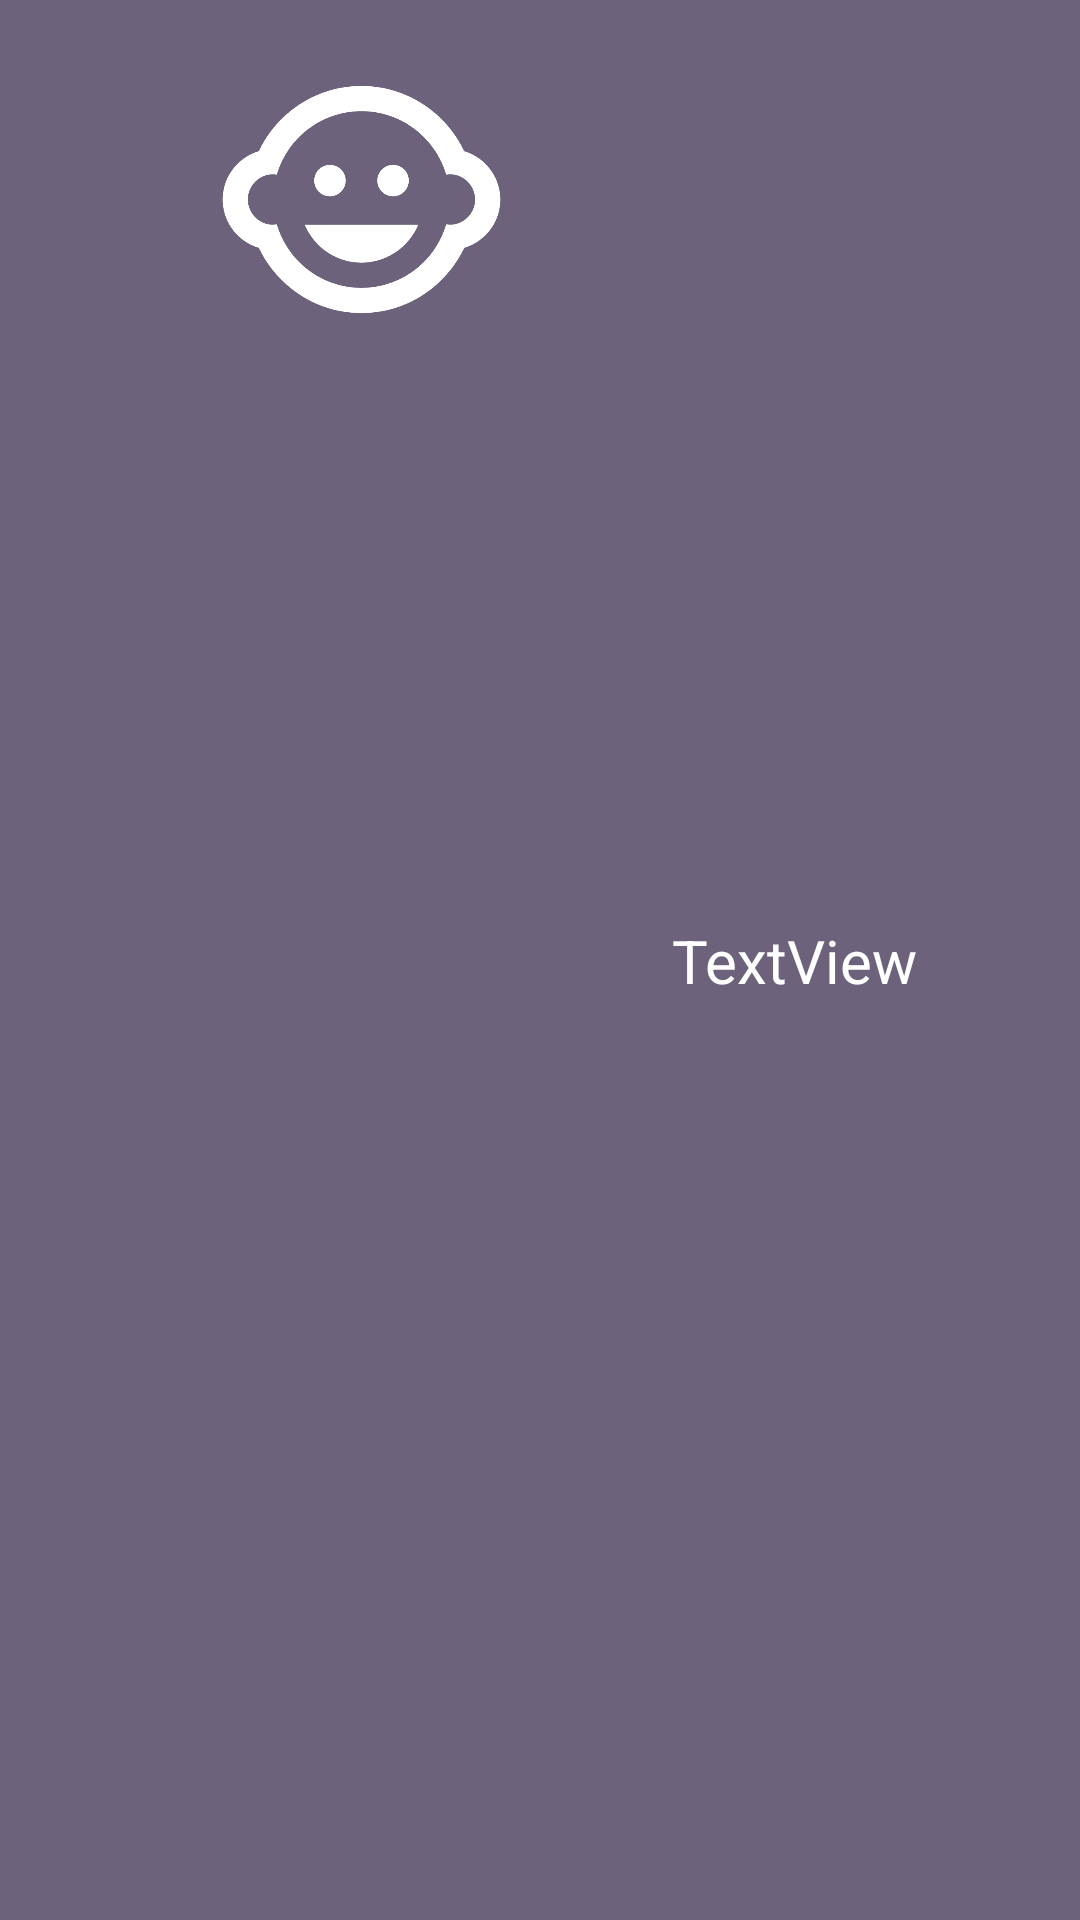

Icon bounding boxes for this 1080px x 1920px phone screenshot, format (x1, y1, x2, y2):
childimg: (222, 86, 501, 313)
